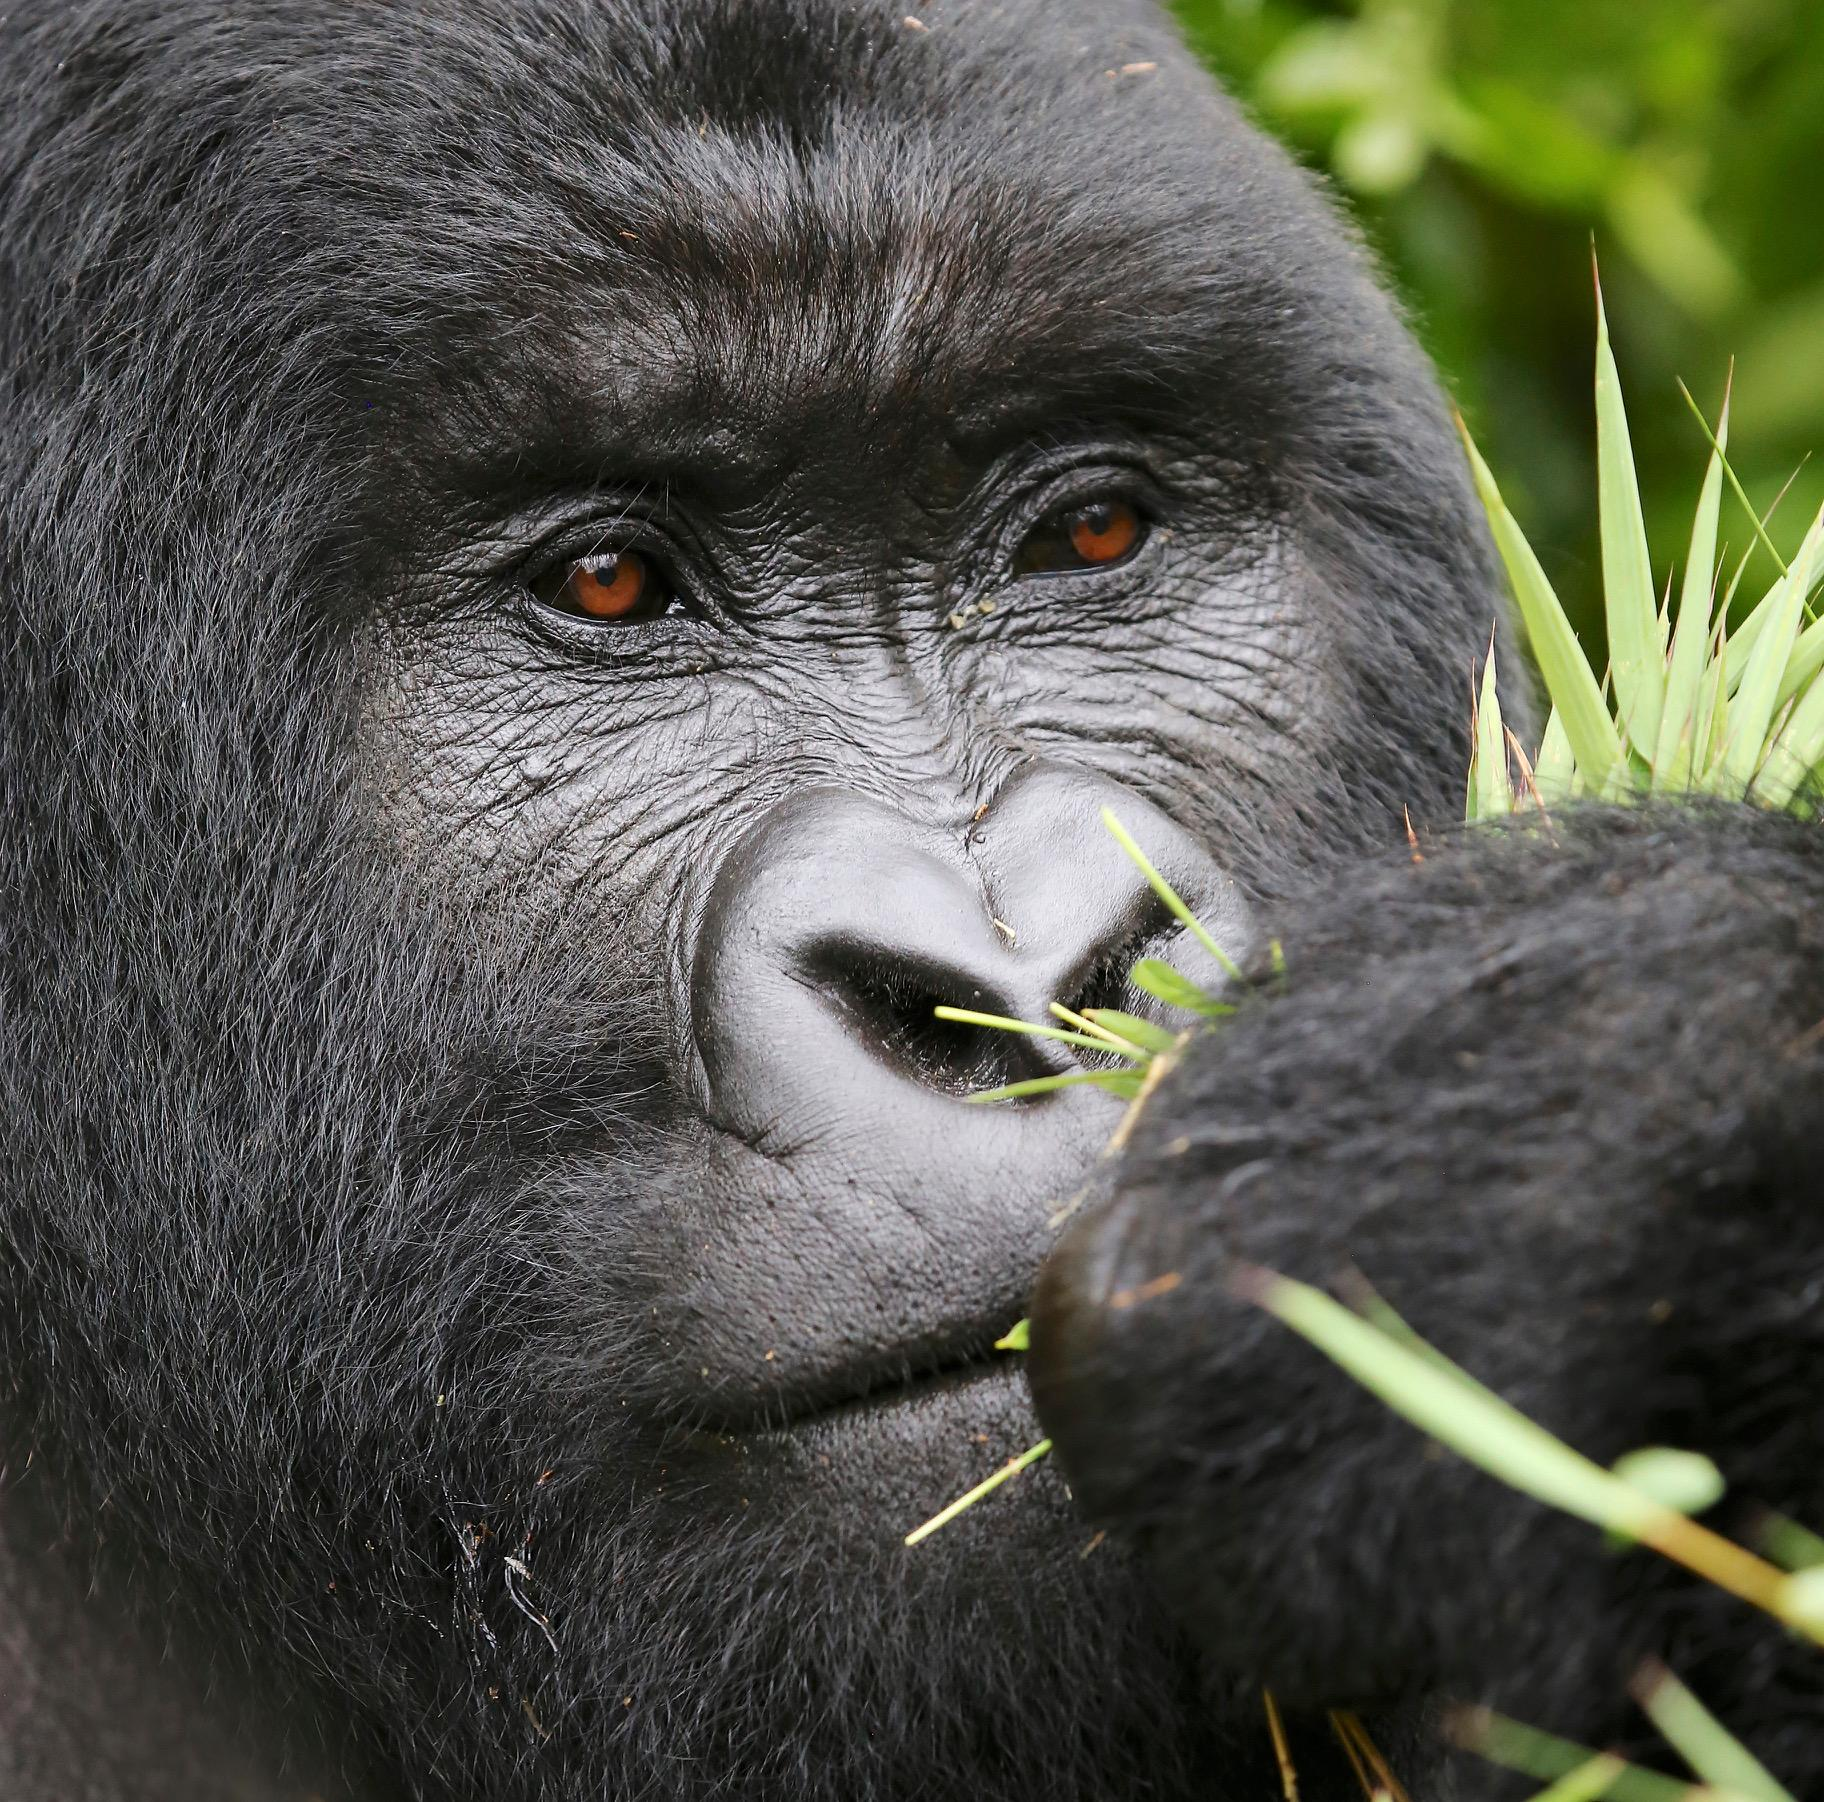Goriila: (12, 21, 1824, 1728)
